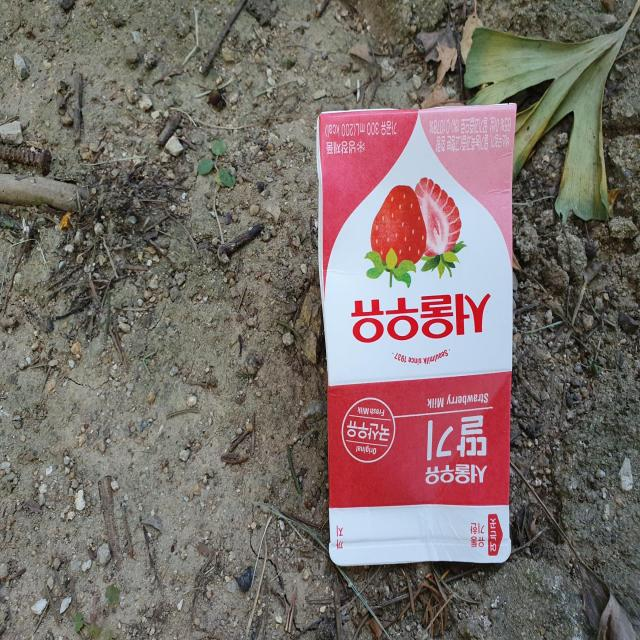paperpack: (317, 103, 517, 566)
